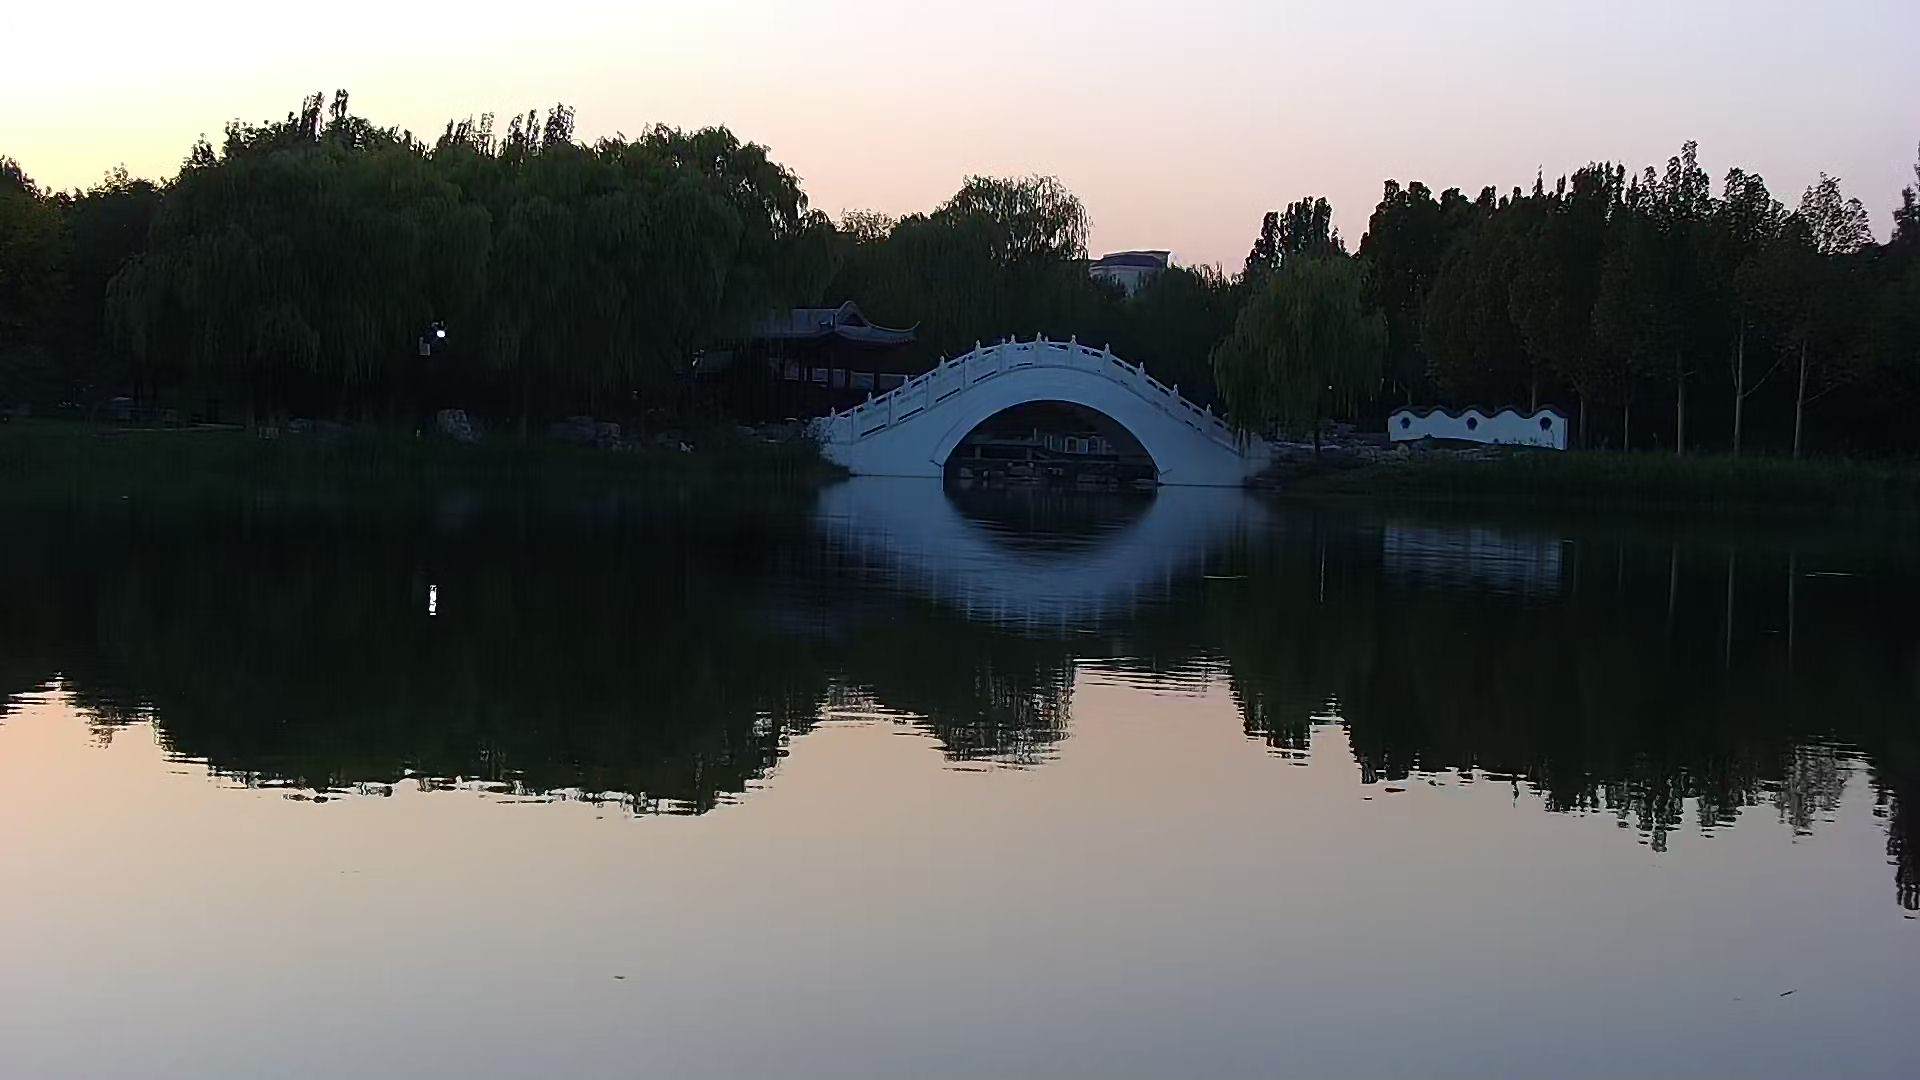bridge: (804, 330, 1282, 491)
